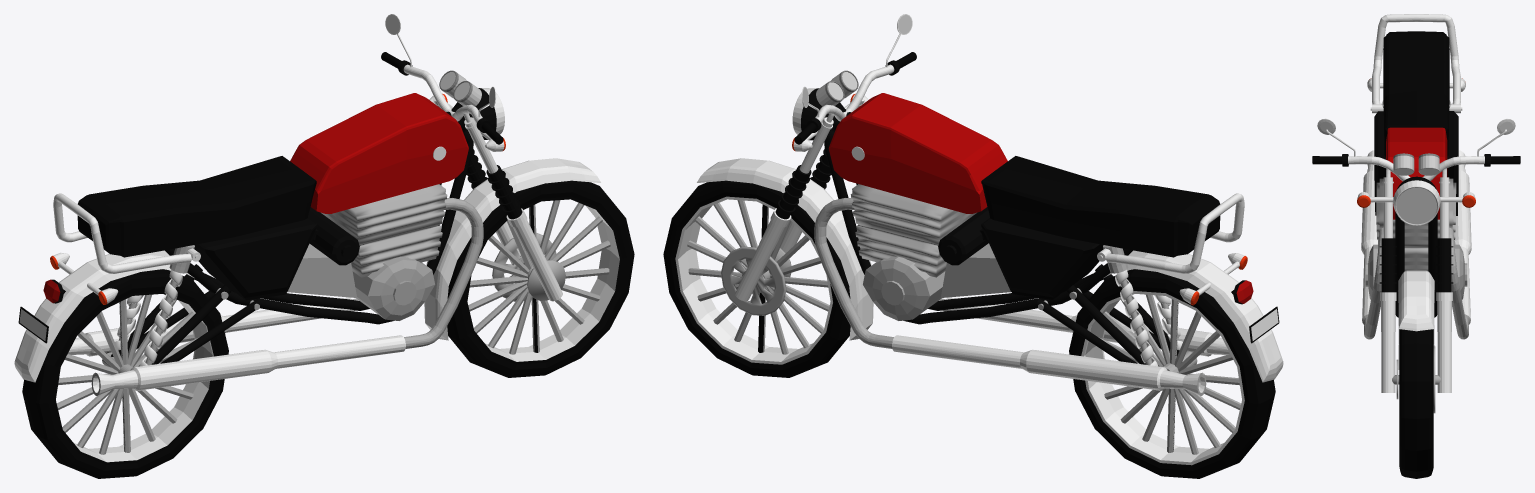
Rendered from motor.obj.
The picture shows the model from 3 angles, left to right: view 1: azimuth 30°, elevation 25°; view 2: azimuth 150°, elevation 25°; view 3: azimuth 270°, elevation 25°; orthographic projection. The views are drawn at different scales.
Visible parts, largest first — view 1: back_wheel, Front_wheel, seat, tank, exhaust, engine_1, engine_2, Front_water, back_water, frame, front_bumper, engine_4 (+11 smaller); view 2: back_wheel, Front_wheel, seat, tank, exhaust, engine_1, engine_2, Front_water, back_water, frame, front_bumper, engine_4 (+11 smaller); view 3: seat, front_bumper, Front_wheel, exhaust, tank, Front_water, engine_1, fender_back, Headlight, steering, frame, engine_2 (+7 smaller).
Boxes of the visible parts, x1,y1,x2,y2 form: back_wheel: (22, 269, 228, 478); Front_wheel: (447, 180, 634, 377); seat: (77, 156, 316, 257); tank: (290, 93, 468, 213); exhaust: (68, 198, 483, 395); engine_1: (321, 184, 447, 277); engine_2: (194, 218, 318, 300); Front_water: (424, 158, 600, 340); back_water: (14, 250, 223, 382); frame: (165, 128, 473, 324); front_bumper: (433, 97, 562, 301); engine_4: (352, 256, 434, 320); back_wheel: (1069, 269, 1275, 478); Front_wheel: (663, 180, 850, 377); seat: (981, 156, 1220, 257); tank: (828, 93, 1007, 213); exhaust: (814, 198, 1229, 395); engine_1: (850, 184, 976, 277); engine_2: (980, 218, 1103, 299); Front_water: (697, 158, 873, 340); back_water: (1074, 250, 1283, 382); frame: (824, 128, 1132, 324); front_bumper: (735, 97, 864, 301); engine_4: (863, 256, 945, 320); seat: (1383, 31, 1449, 156); front_bumper: (1379, 168, 1453, 392); Front_wheel: (1399, 329, 1433, 478); exhaust: (1361, 150, 1471, 339); tank: (1386, 127, 1447, 219); Front_water: (1398, 270, 1434, 369); engine_1: (1376, 178, 1456, 270); fender_back: (1372, 14, 1460, 104); Headlight: (1393, 176, 1440, 225); steering: (1312, 154, 1520, 181); frame: (1395, 212, 1437, 317); engine_2: (1374, 111, 1458, 196).
Size of the model in its own units: 7.39 by 4.01 by 2.43.
